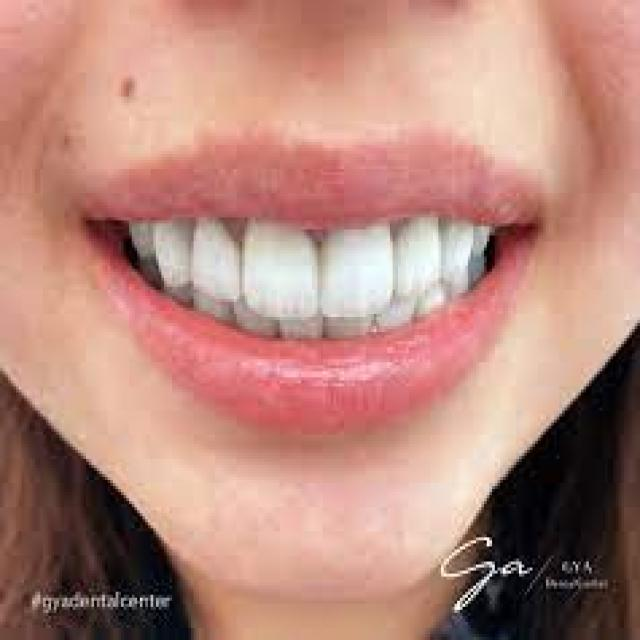tooth: (240, 217, 318, 311), (320, 214, 395, 311), (196, 211, 237, 299), (396, 214, 438, 287), (156, 226, 191, 287), (441, 217, 471, 275), (328, 311, 371, 338), (282, 311, 320, 335), (470, 224, 498, 256), (411, 290, 441, 317), (388, 302, 412, 332), (244, 311, 272, 332), (196, 302, 234, 317), (137, 220, 151, 256), (180, 287, 194, 305)
